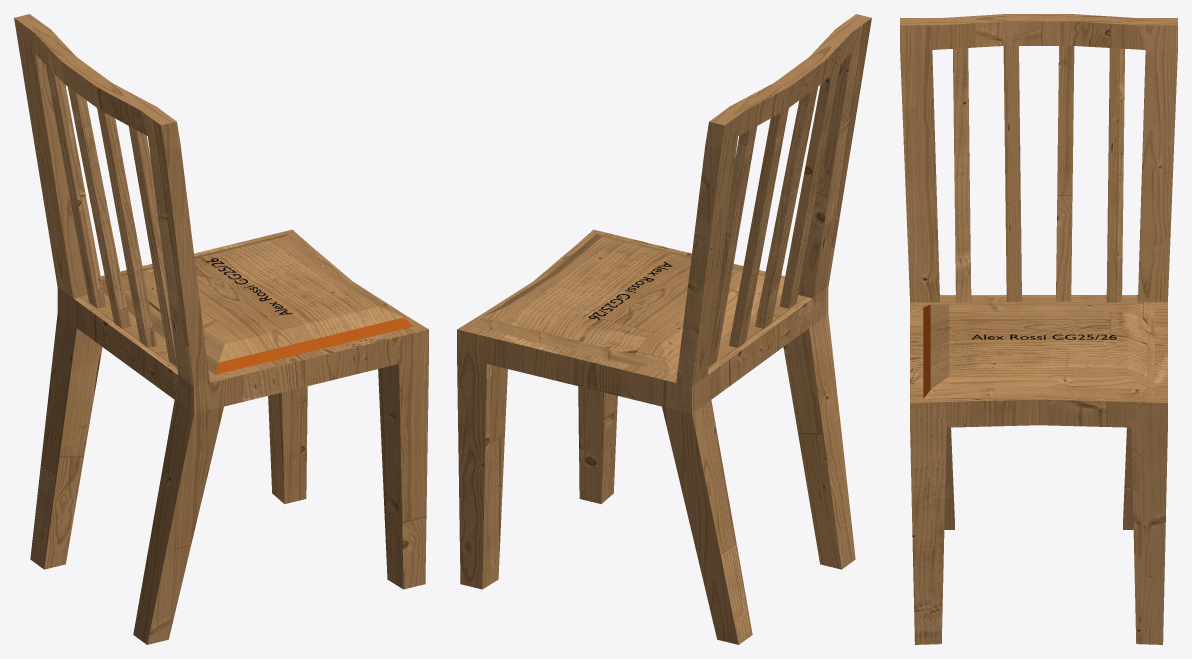
File: chair.obj
3 renders of one model, left to right at view 1: azimuth 30°, elevation 25°; view 2: azimuth 150°, elevation 25°; view 3: azimuth 270°, elevation 25°, orthographic. The views are drawn at different scales.
Parts seen in each view (by area): view 1: Alex_Rossi_CG25/26; view 2: Alex_Rossi_CG25/26; view 3: Alex_Rossi_CG25/26.
Part boxes in pixels (left/top/right/bottom): Alex_Rossi_CG25/26: left=14, top=14, right=428, bottom=644; Alex_Rossi_CG25/26: left=457, top=14, right=871, bottom=644; Alex_Rossi_CG25/26: left=900, top=14, right=1177, bottom=644.
Bounding box in the file's own units: 5.52 × 9.92 × 4.98.
